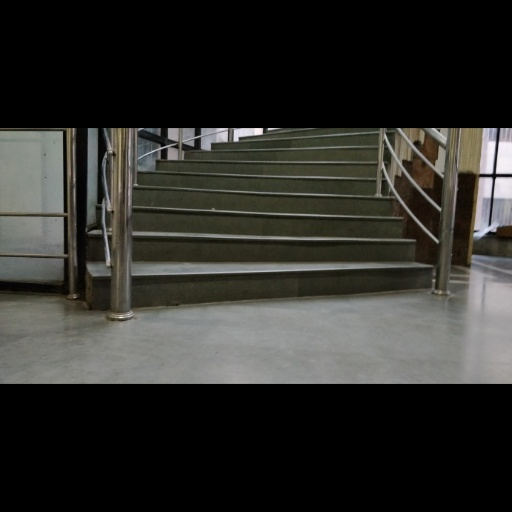Stairs: (133, 130, 432, 304)
